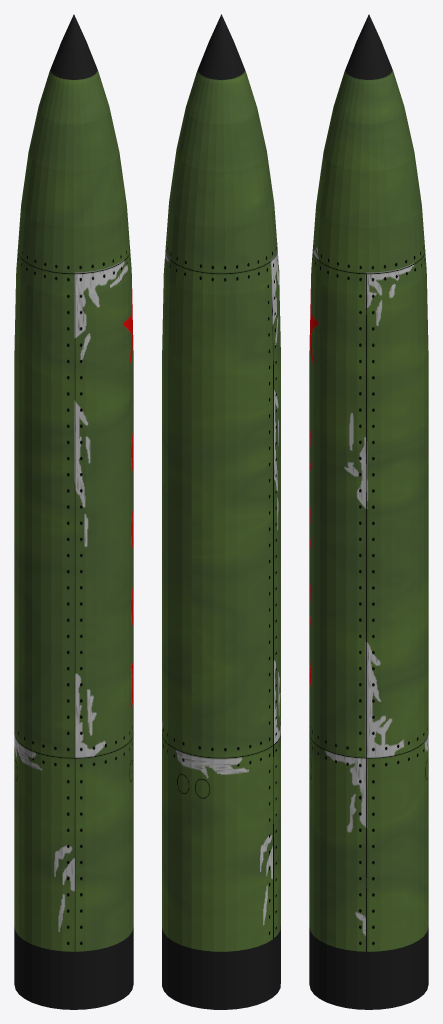
File: russianMissile.obj
3 views of the same model, side by side, from view 1: azimuth 90°, elevation 25°; view 2: azimuth 150°, elevation 25°; view 3: azimuth 270°, elevation 25° (orthographic).
Parts seen in each view (by area): view 1: missile04_1_missile04_1.001; view 2: missile04_1_missile04_1.001; view 3: missile04_1_missile04_1.001.
Part boxes in pixels (bbox=[...]): missile04_1_missile04_1.001: bbox=[14, 14, 133, 1009]; missile04_1_missile04_1.001: bbox=[162, 14, 280, 1009]; missile04_1_missile04_1.001: bbox=[309, 14, 428, 1009].
Bounding box in the file's own units: 2 × 18 × 2.
Materials: 1 (1 with a texture image).
